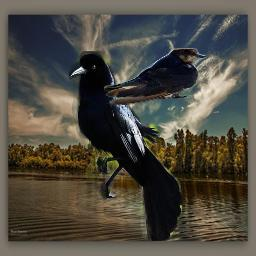Crow: (69, 51, 182, 241)
Swallow: (104, 48, 206, 105)
